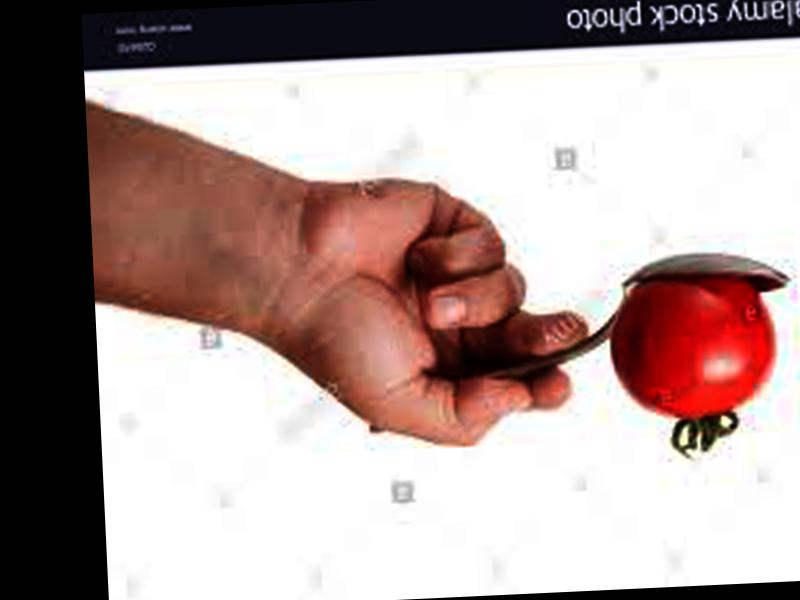Tomato: (607, 275, 775, 423)
